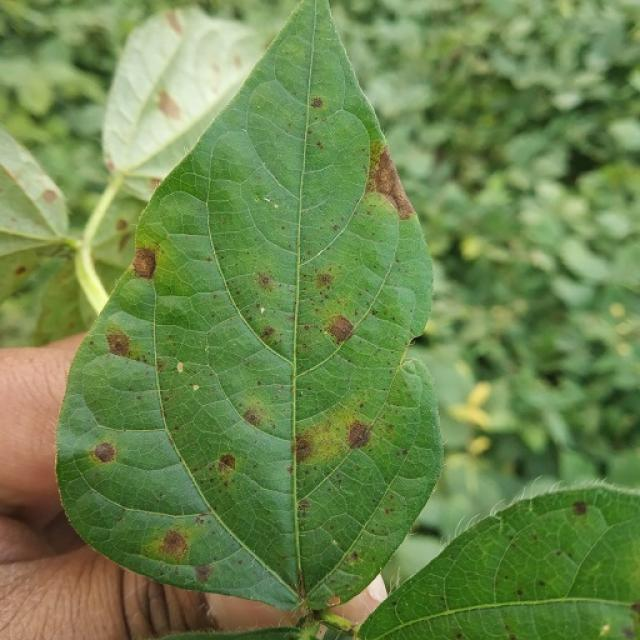Anthracnose: (371, 146, 413, 217), (329, 310, 354, 344), (131, 247, 157, 279), (346, 420, 372, 450), (160, 530, 188, 557), (157, 89, 181, 120), (106, 329, 131, 358), (93, 441, 116, 464), (243, 407, 264, 428), (295, 437, 313, 460), (218, 453, 236, 474), (295, 567, 307, 598), (256, 272, 275, 290), (194, 563, 212, 582), (315, 272, 333, 288), (572, 500, 588, 515), (42, 189, 58, 204), (260, 326, 275, 339), (310, 96, 323, 109), (116, 218, 129, 231), (298, 498, 310, 512), (325, 596, 339, 607), (155, 361, 166, 373), (14, 266, 27, 276), (349, 550, 359, 562), (634, 601, 640, 617), (316, 141, 324, 149), (538, 580, 547, 587), (516, 589, 523, 596)
Blackgram: (54, 0, 444, 625)
